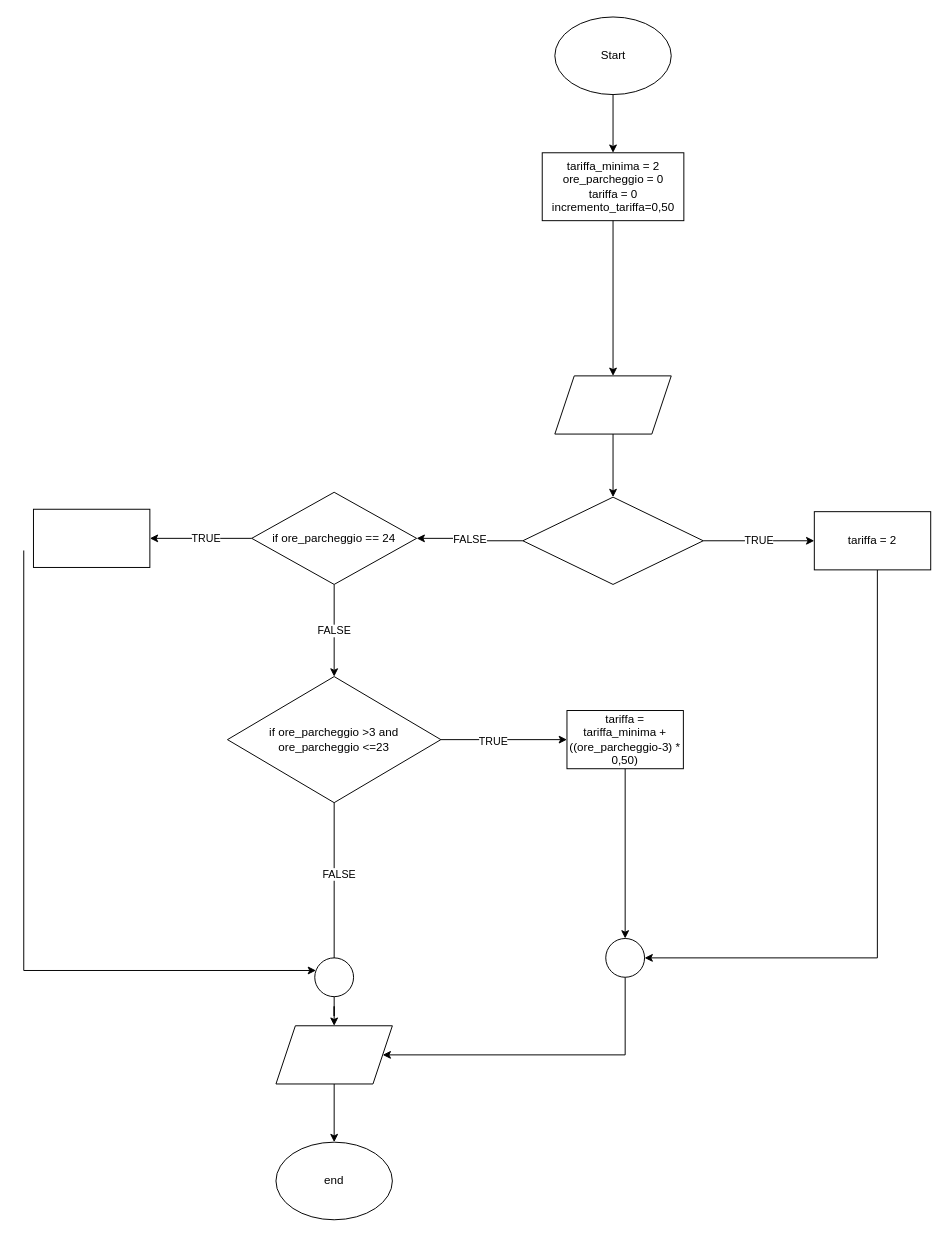
Image size: 948x1237. Some labels were removed from this diagram. The shapes that lost their labels are listed below. From the top down, each one's box as (x1, y1, x2, y2) in pixels, then its label:
(554, 375, 671, 434): inserisci le ore di parcheggio
(32, 508, 150, 567): tariffa = 10
(522, 496, 703, 584): if ore_parcheggio <= 3
(275, 1025, 392, 1084): ore_parcheggio, tariffa
